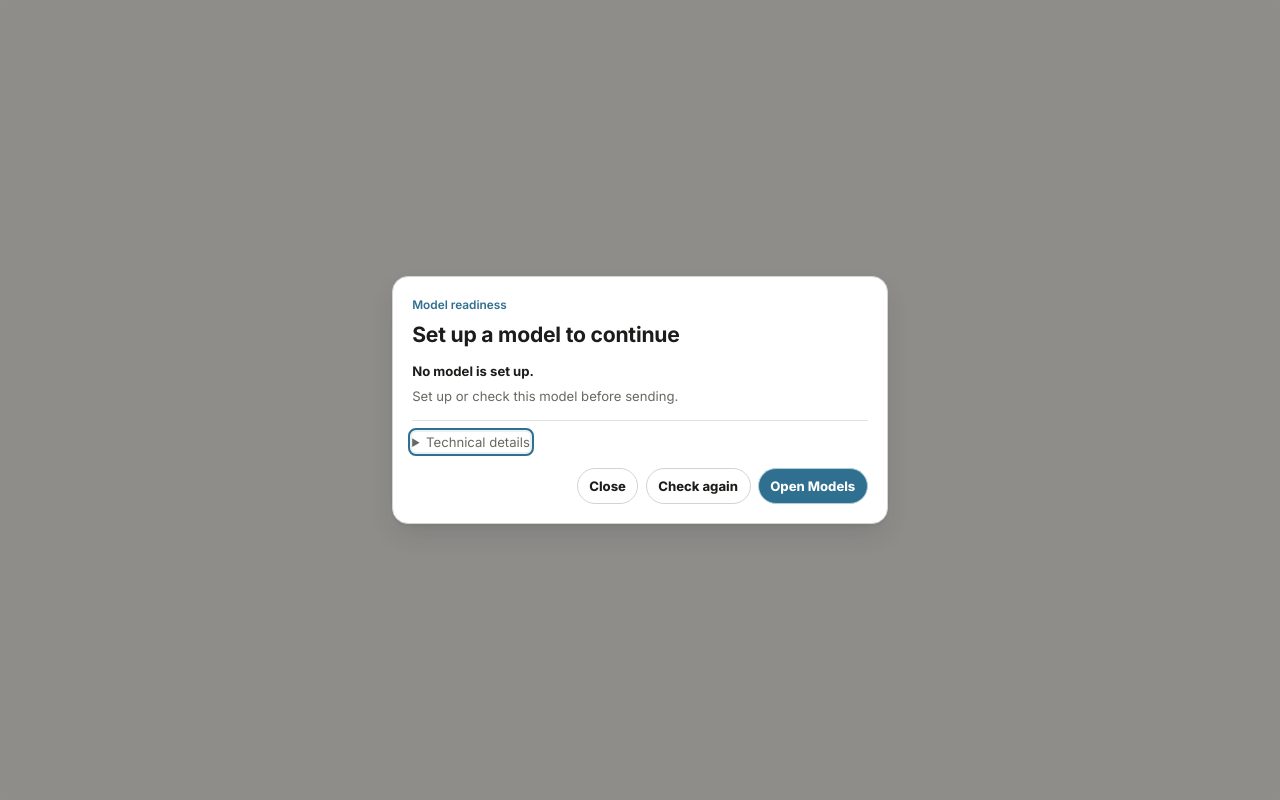
it: ModelSetupDialog › does not claim a check happened when there is no model to check
Click the button "Check again": [698, 486] box [646,468,750,504]
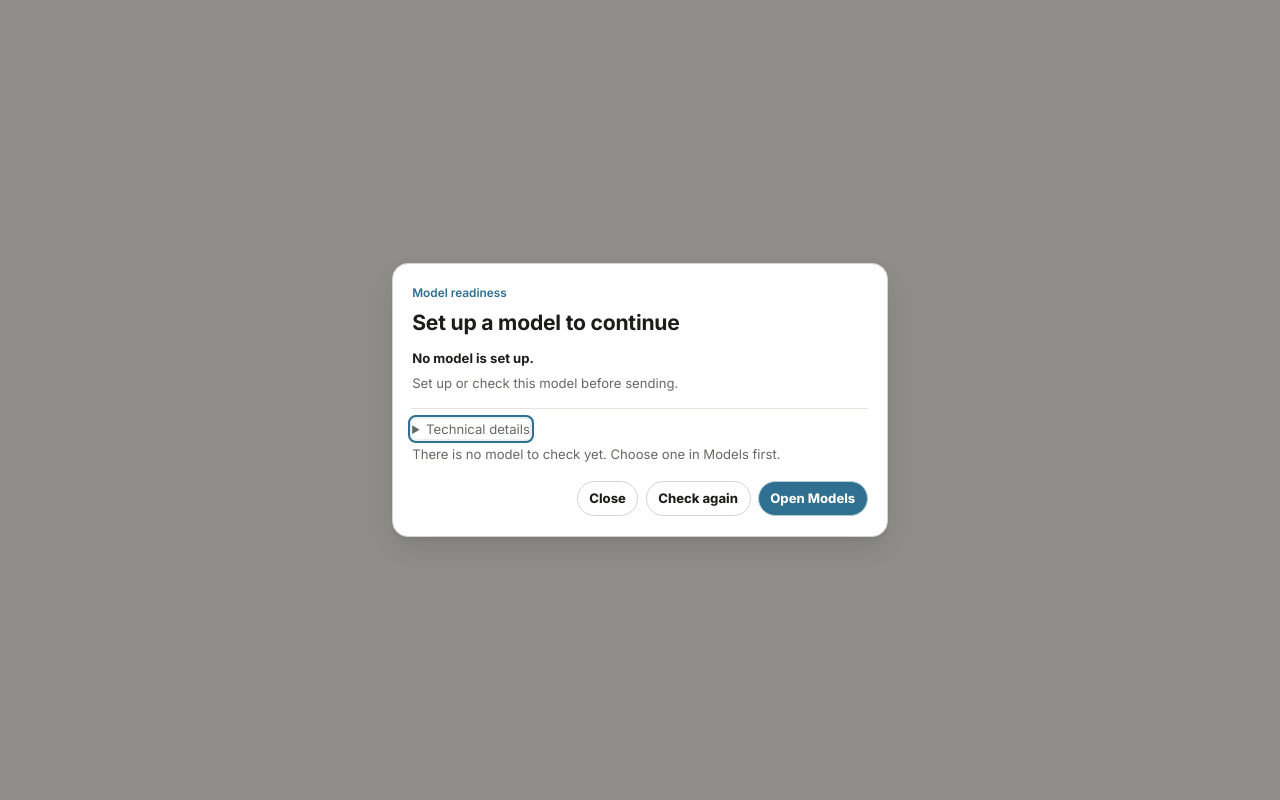
expect the message does not show "Check complete": met, box [412,446,780,462]
expect the message shows "There is no model to check yet.": met, box [412,446,780,462]
